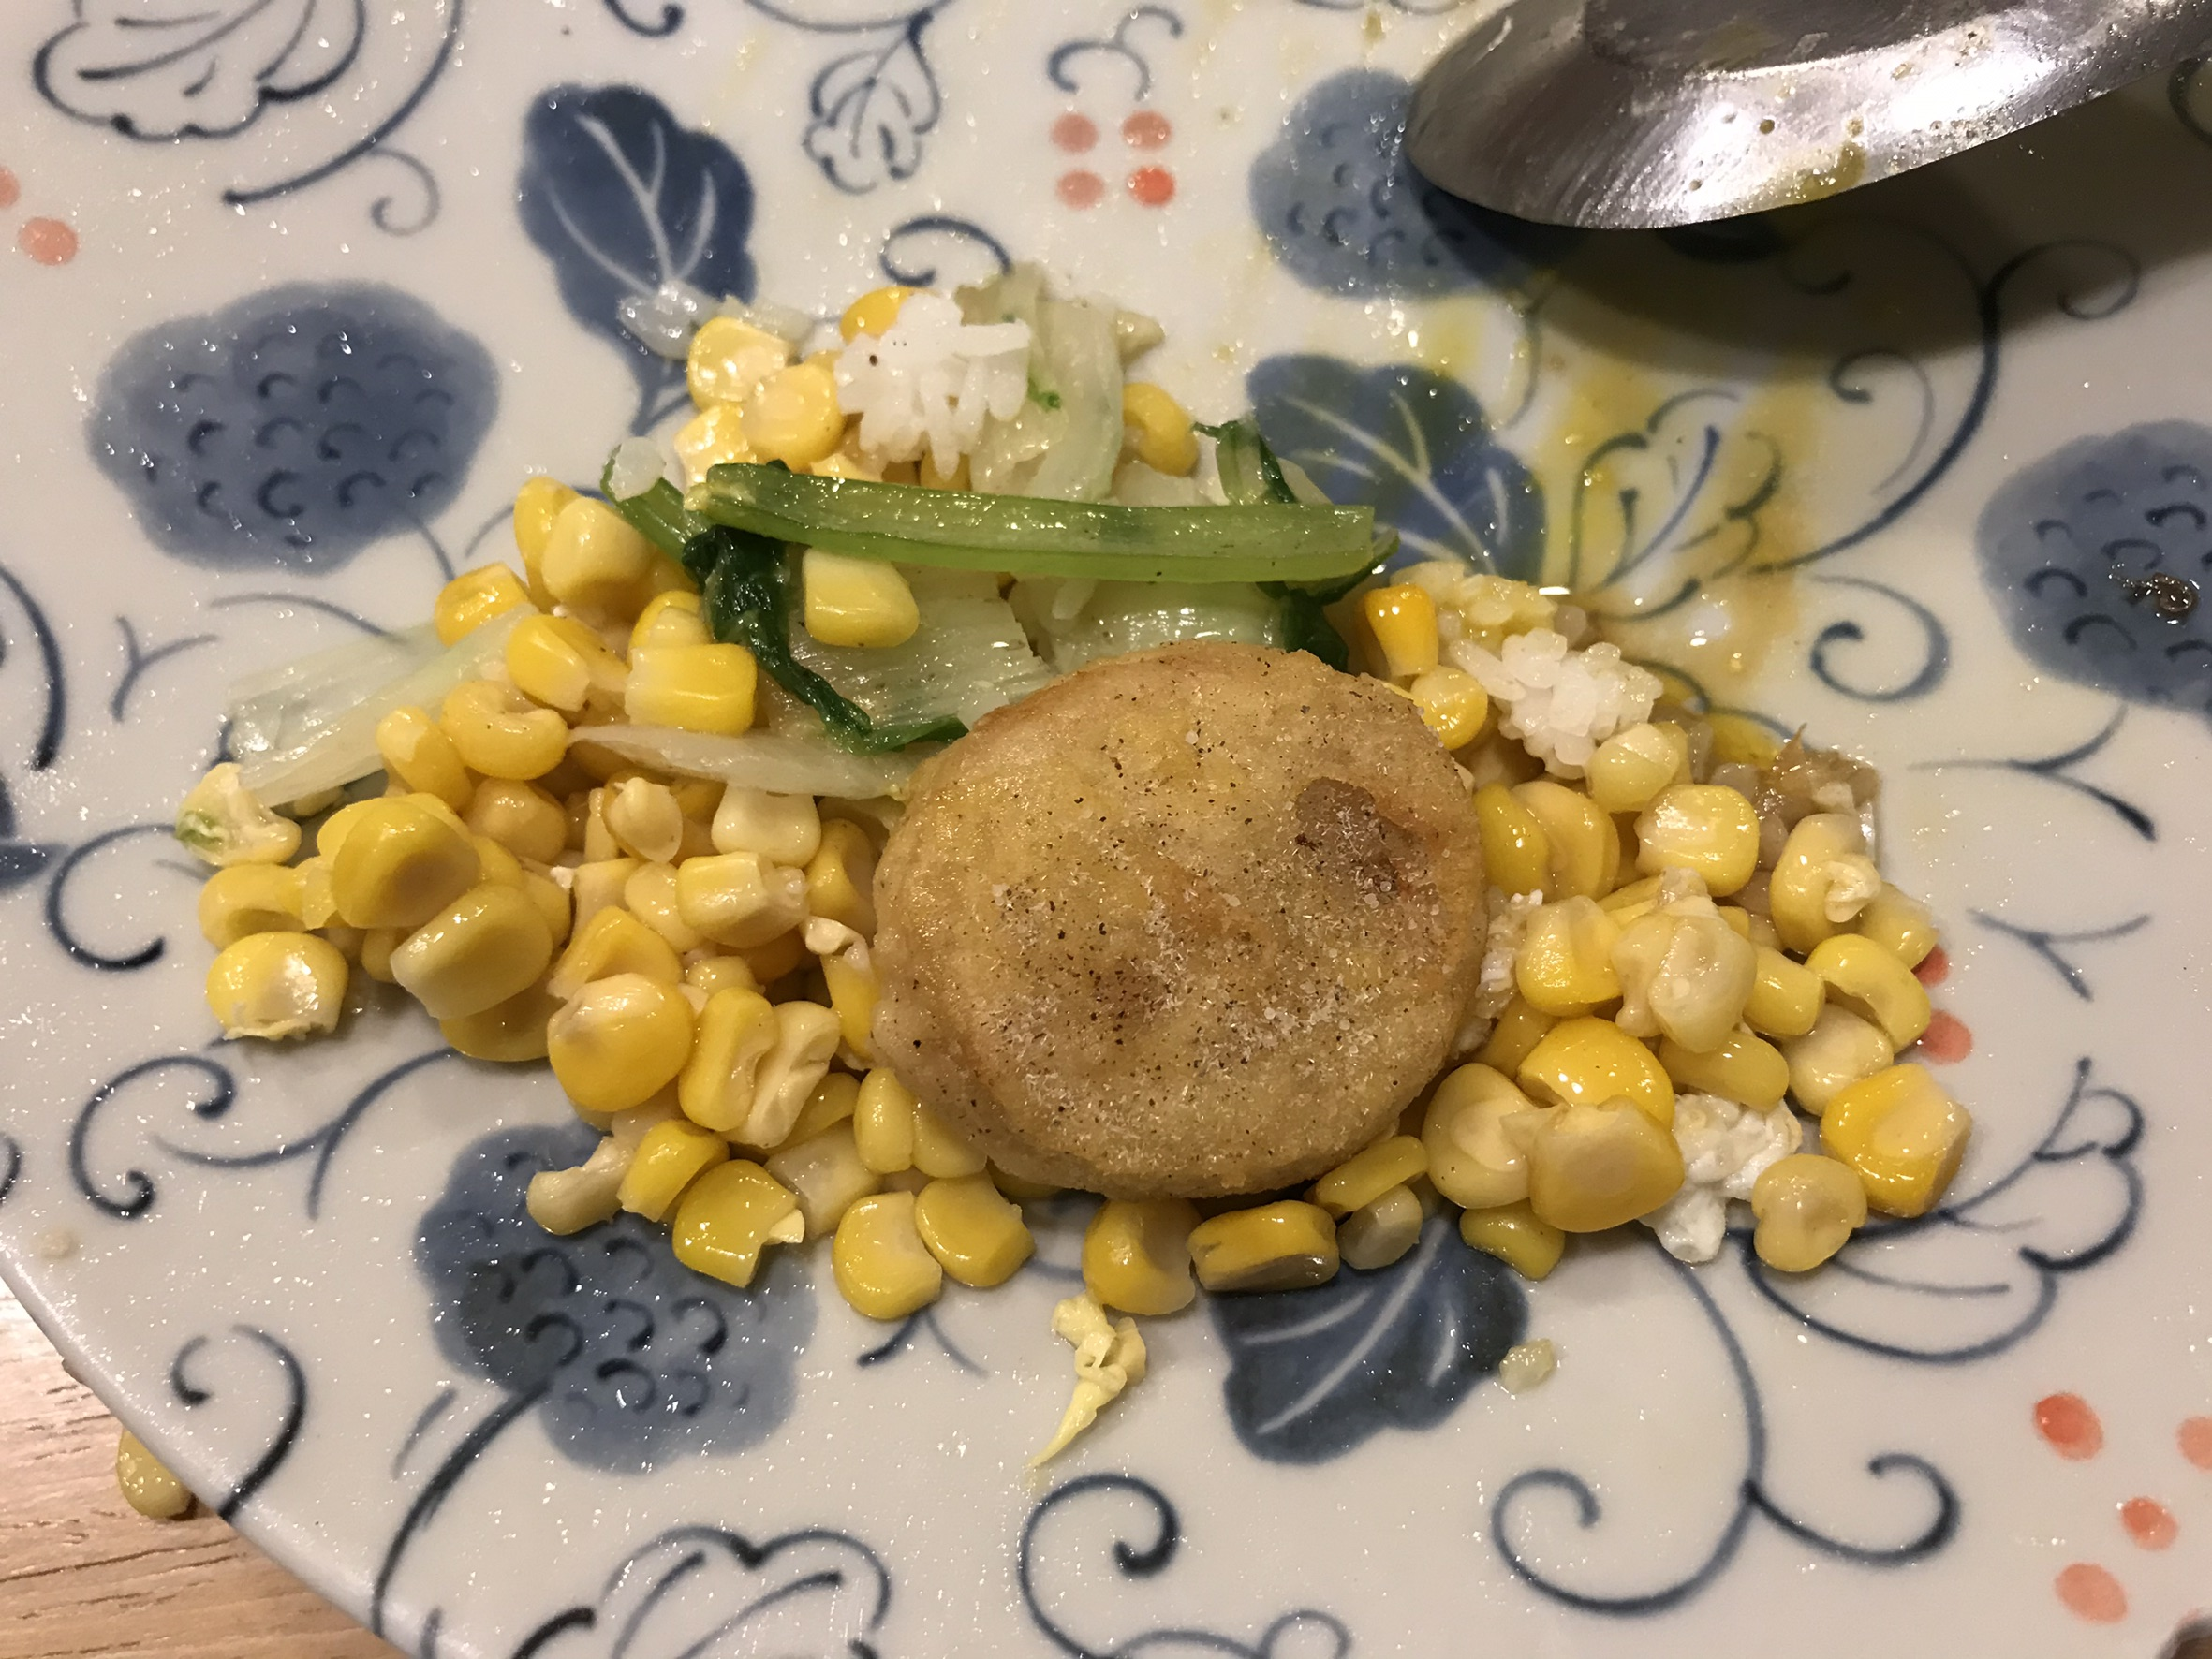chicken_nuggets: (866, 641, 1496, 1206)
